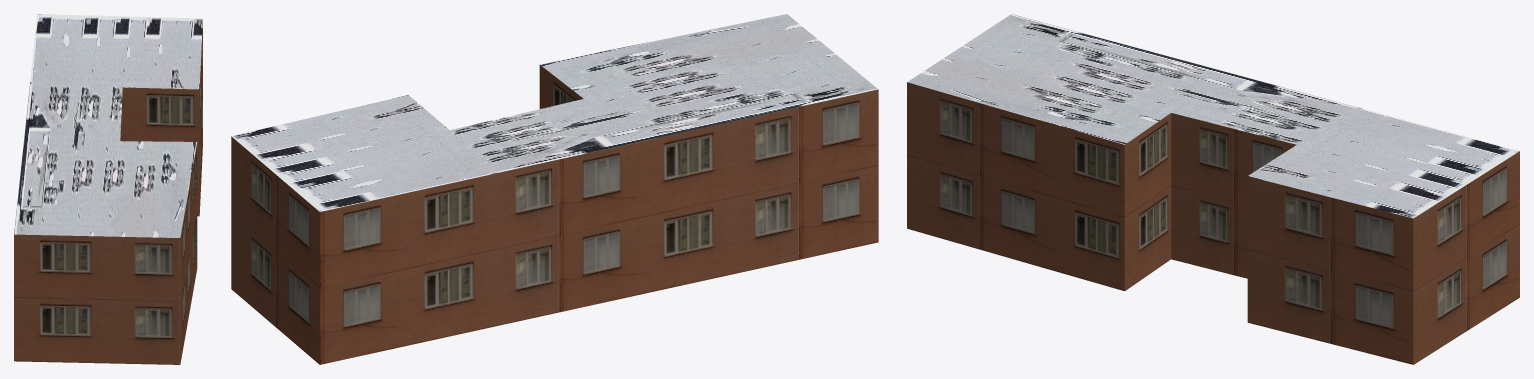
The model's file is ResTex__2212.fbx.
3 views of the same model, side by side, from view 1: azimuth 30°, elevation 25°; view 2: azimuth 150°, elevation 25°; view 3: azimuth 270°, elevation 25° (orthographic). The views are drawn at different scales.
Parts seen in each view (by area): view 1: CityEngineMaterial_2_m, CityEngineMaterial_20_m; view 2: CityEngineMaterial_20_m, CityEngineMaterial_2_m; view 3: CityEngineMaterial_20_m, CityEngineMaterial_2_m.
Part boxes in pixels (<box>): CityEngineMaterial_2_m: <box>14,14,202,237</box>; CityEngineMaterial_20_m: <box>14,22,202,364</box>; CityEngineMaterial_20_m: <box>231,65,878,364</box>; CityEngineMaterial_2_m: <box>232,14,878,211</box>; CityEngineMaterial_20_m: <box>907,82,1519,364</box>; CityEngineMaterial_2_m: <box>907,14,1519,218</box>.
Bounding box in the file's own units: 17.97 × 6 × 22.75.
Materials: 2 (2 with a texture image).
